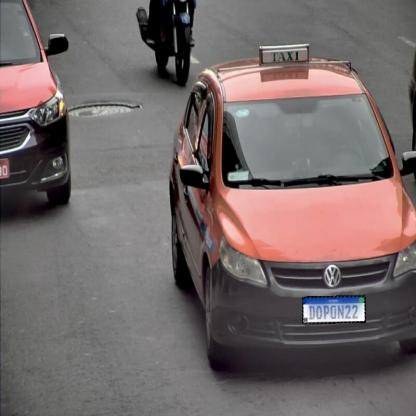PlacaM: (302, 295, 366, 324)
